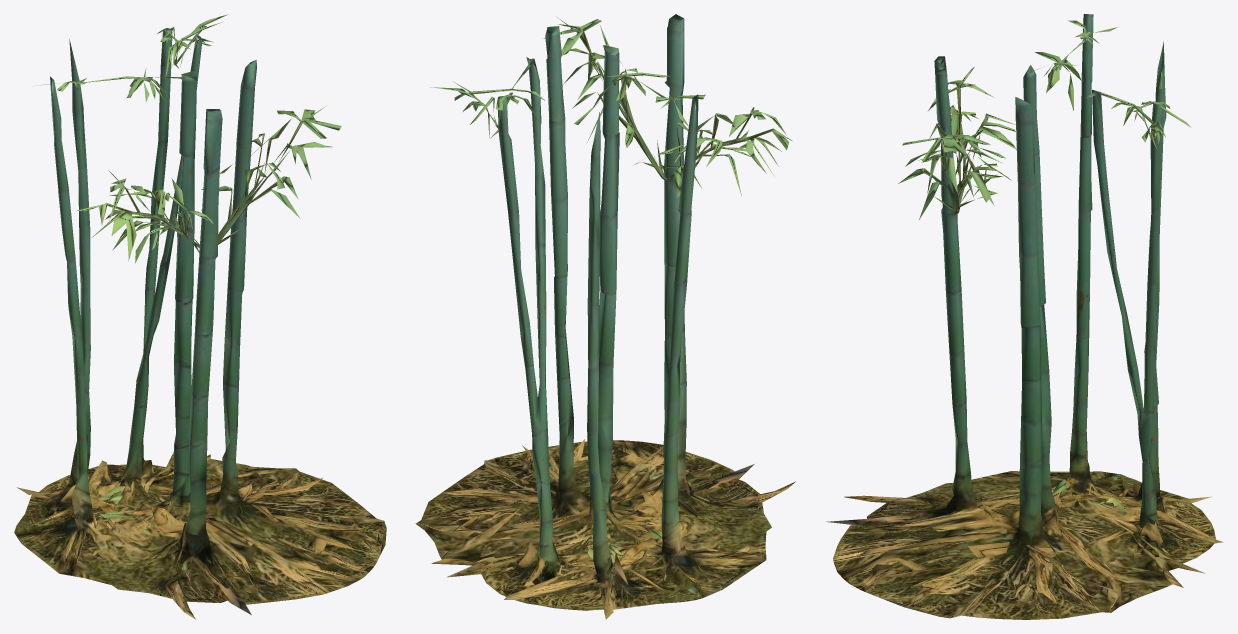
The model's file is bamboo.glb.
3 renders of one model, left to right at view 1: azimuth 30°, elevation 25°; view 2: azimuth 150°, elevation 25°; view 3: azimuth 270°, elevation 25°, orthographic. The views are drawn at different scales.
Parts seen in each view (by area): view 1: tripo_node_9ee181ba-234c-4840-aab7-b74bf9d65f89; view 2: tripo_node_9ee181ba-234c-4840-aab7-b74bf9d65f89; view 3: tripo_node_9ee181ba-234c-4840-aab7-b74bf9d65f89.
Boxes of the visible parts, x1=… form: tripo_node_9ee181ba-234c-4840-aab7-b74bf9d65f89: x1=14, y1=14, x2=386, y2=619; tripo_node_9ee181ba-234c-4840-aab7-b74bf9d65f89: x1=415, y1=14, x2=795, y2=619; tripo_node_9ee181ba-234c-4840-aab7-b74bf9d65f89: x1=826, y1=14, x2=1223, y2=619.
Bounding box in the file's own units: 0.6625 × 0.9776 × 0.7471.
1 material, 1 textured.
